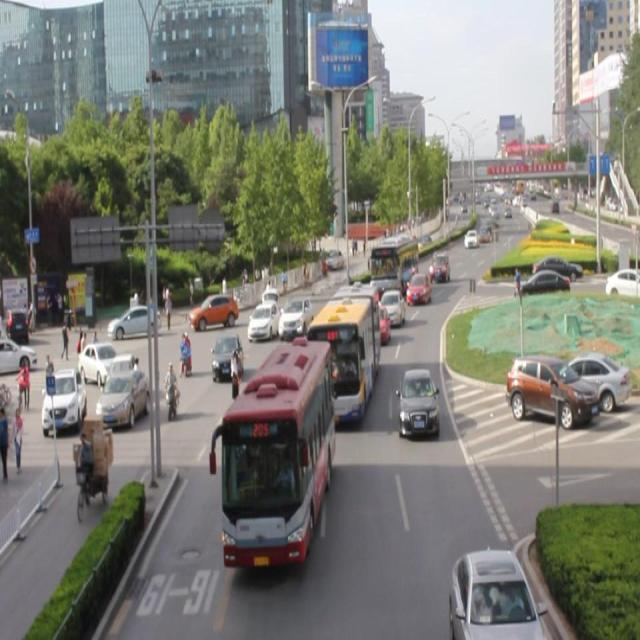car: (451, 547, 538, 640), (398, 368, 439, 438), (253, 363, 297, 423), (189, 293, 238, 328), (212, 331, 244, 378), (279, 294, 312, 338), (343, 288, 377, 328), (248, 298, 279, 340), (376, 287, 405, 327), (364, 304, 390, 342), (405, 271, 431, 305), (428, 248, 450, 283)
van: (223, 341, 331, 562), (310, 282, 375, 422), (371, 235, 416, 298)
